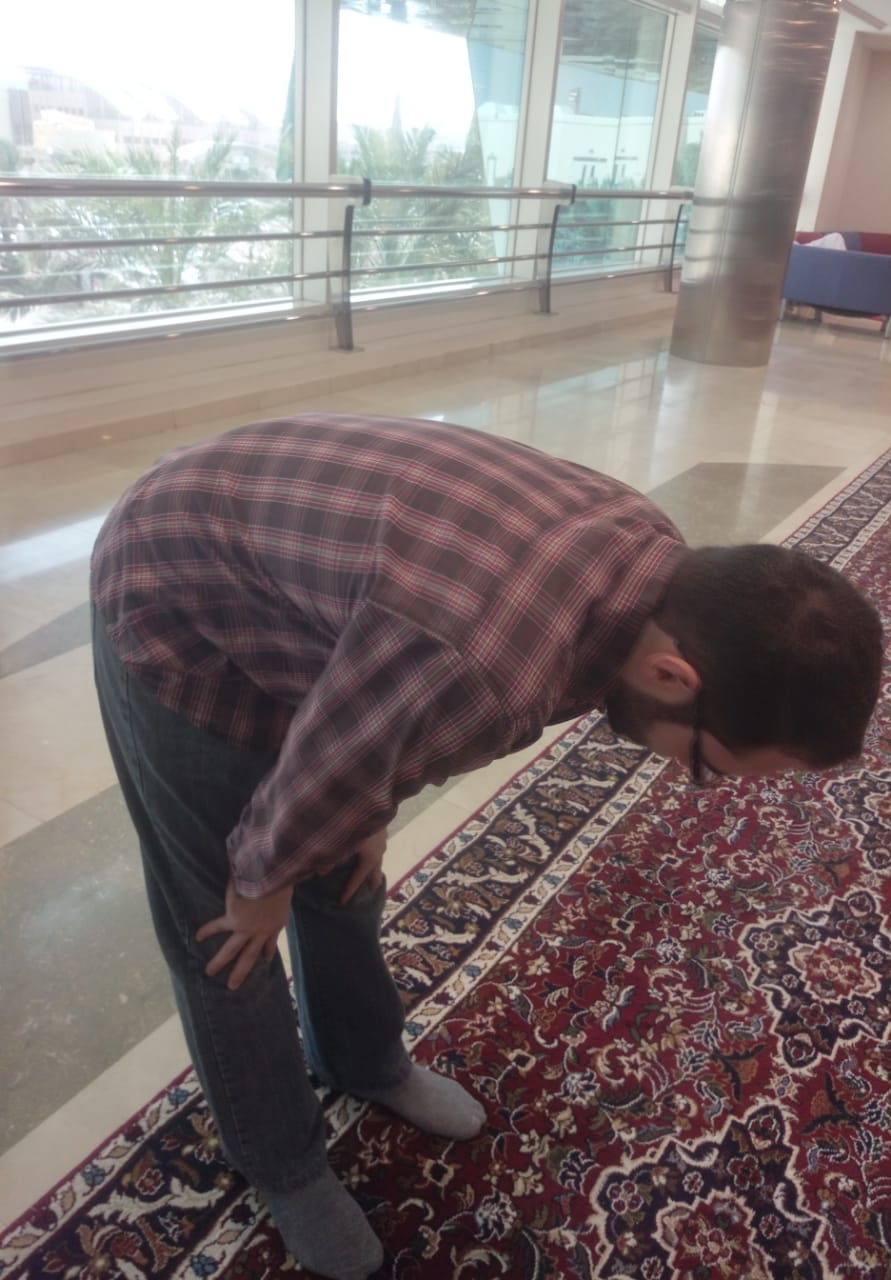ruku: (31, 375, 890, 1226)
